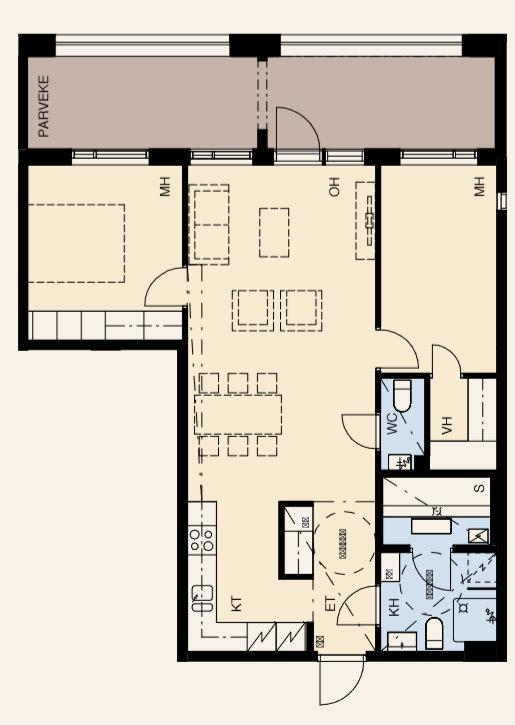bathroom: (383, 547, 499, 656), (381, 378, 427, 467)
door: (271, 100, 323, 167), (317, 646, 368, 710), (407, 535, 459, 595), (367, 324, 424, 371), (333, 583, 385, 631), (142, 264, 190, 313), (337, 408, 385, 455), (426, 342, 464, 382)
perimeter: (17, 147, 507, 662)
window: (275, 29, 470, 61), (52, 29, 235, 62), (64, 143, 158, 167), (396, 143, 485, 167), (185, 144, 258, 169), (324, 147, 366, 164), (491, 193, 512, 215)
